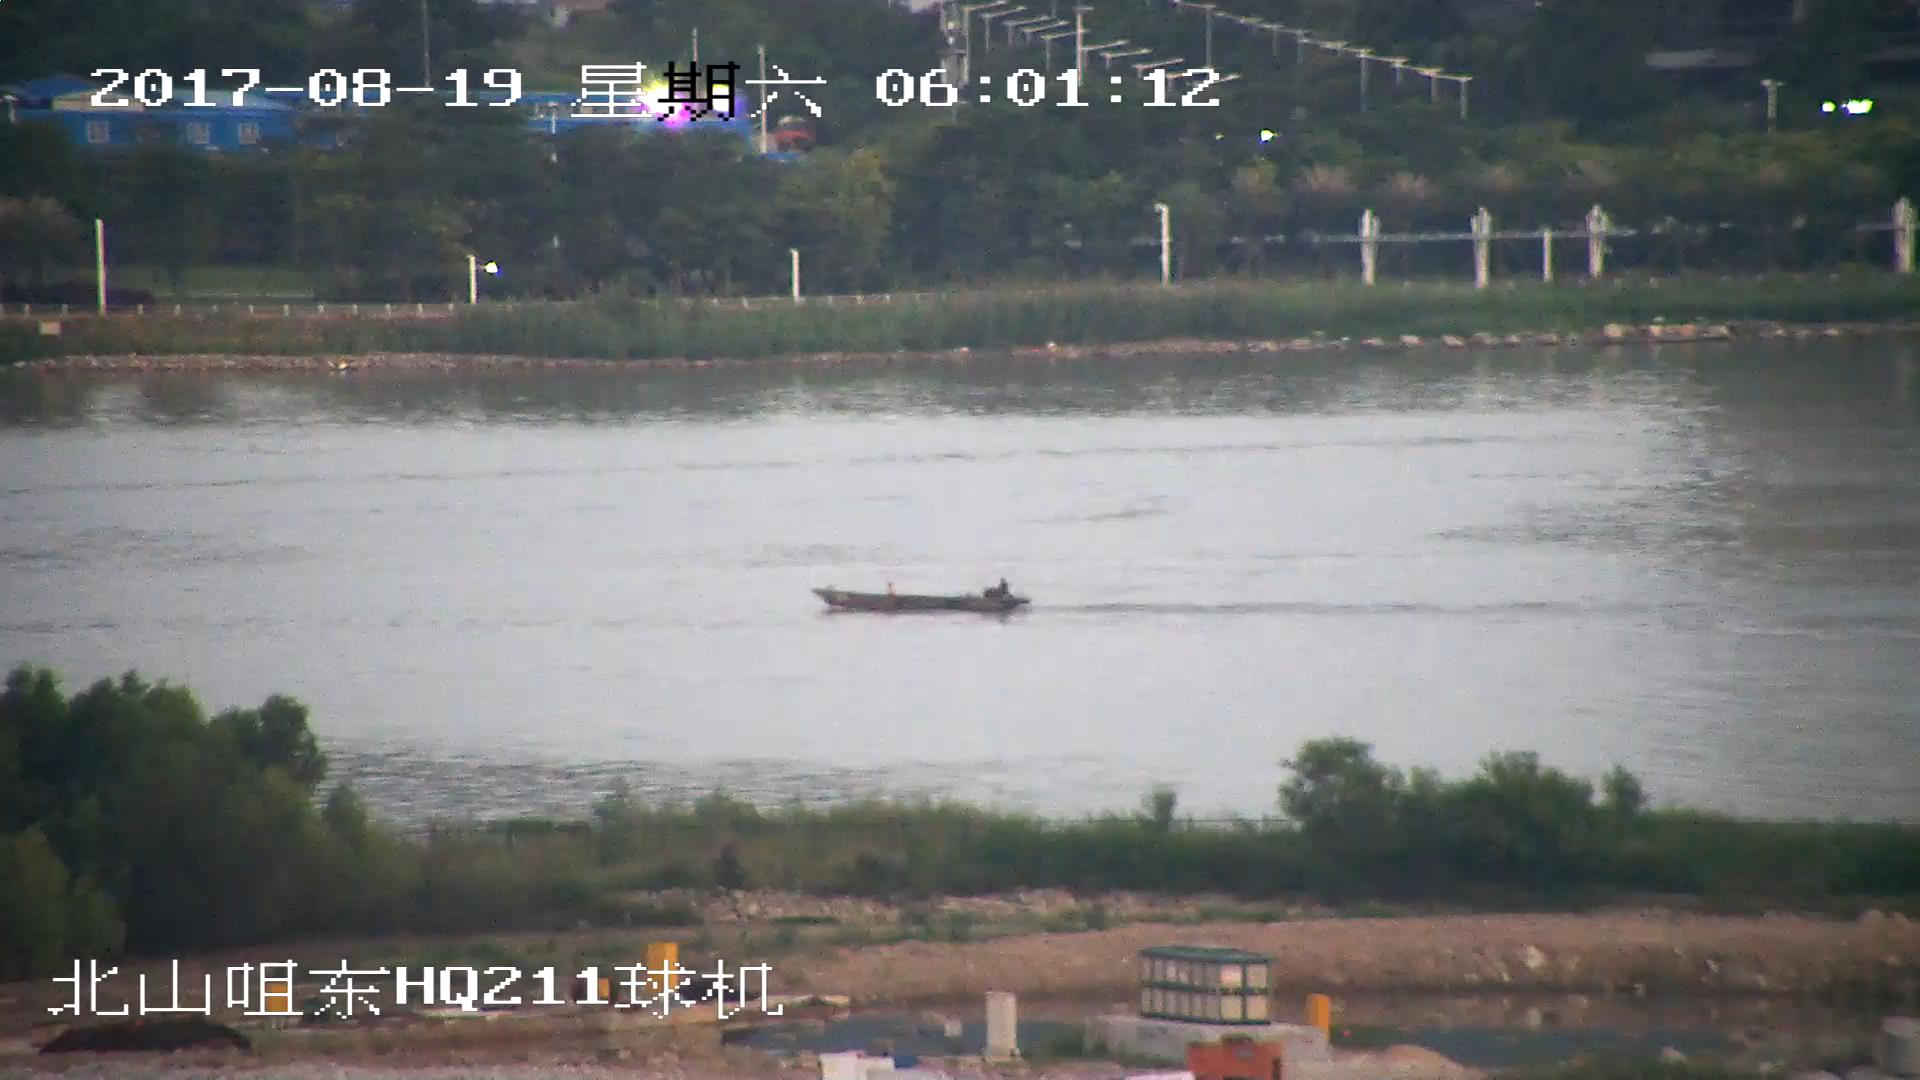fishing boat: (814, 575, 1023, 614)
